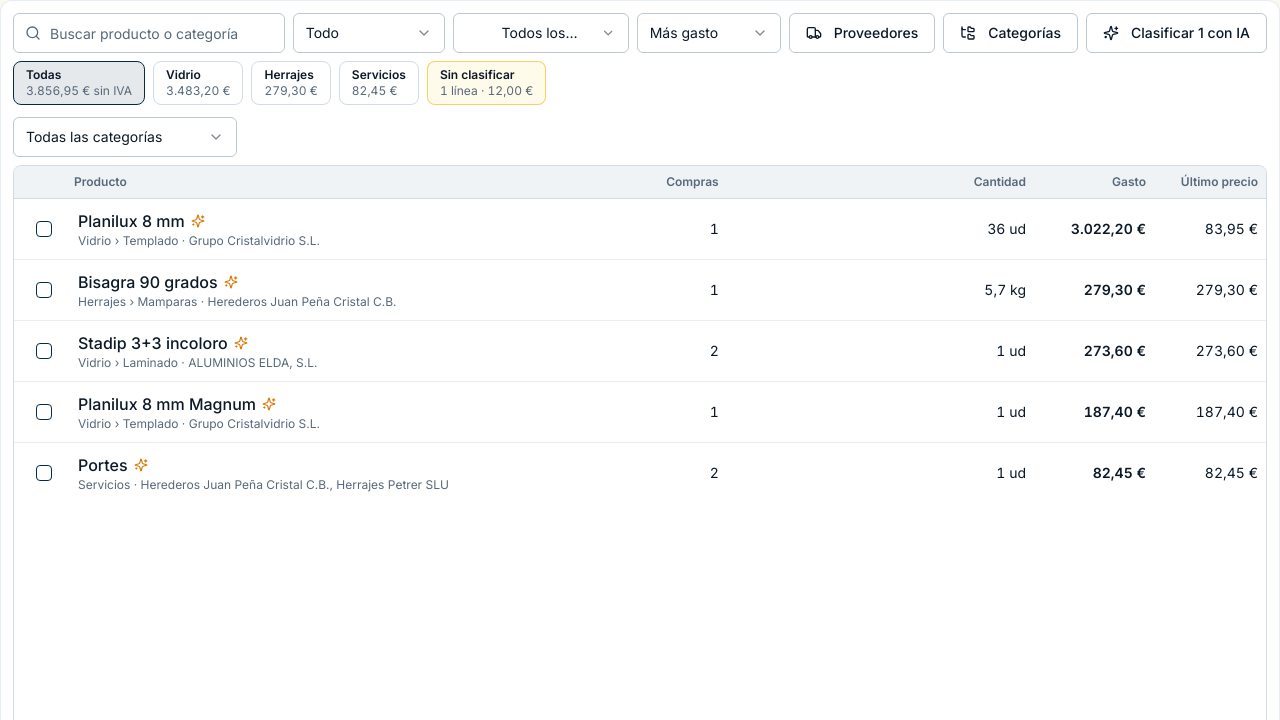
Test case: Proveedores unificados en Productos › fusionar: sugiere quedarse con el que tiene CIF y llama a proveedores_fusionar
Later steps or results of the test are not shown.
Check: the text "Planilux 8 mm" is shown, box [78, 209, 185, 233]
Click the button "Proveedores" at (862, 33), box [789, 13, 935, 53]
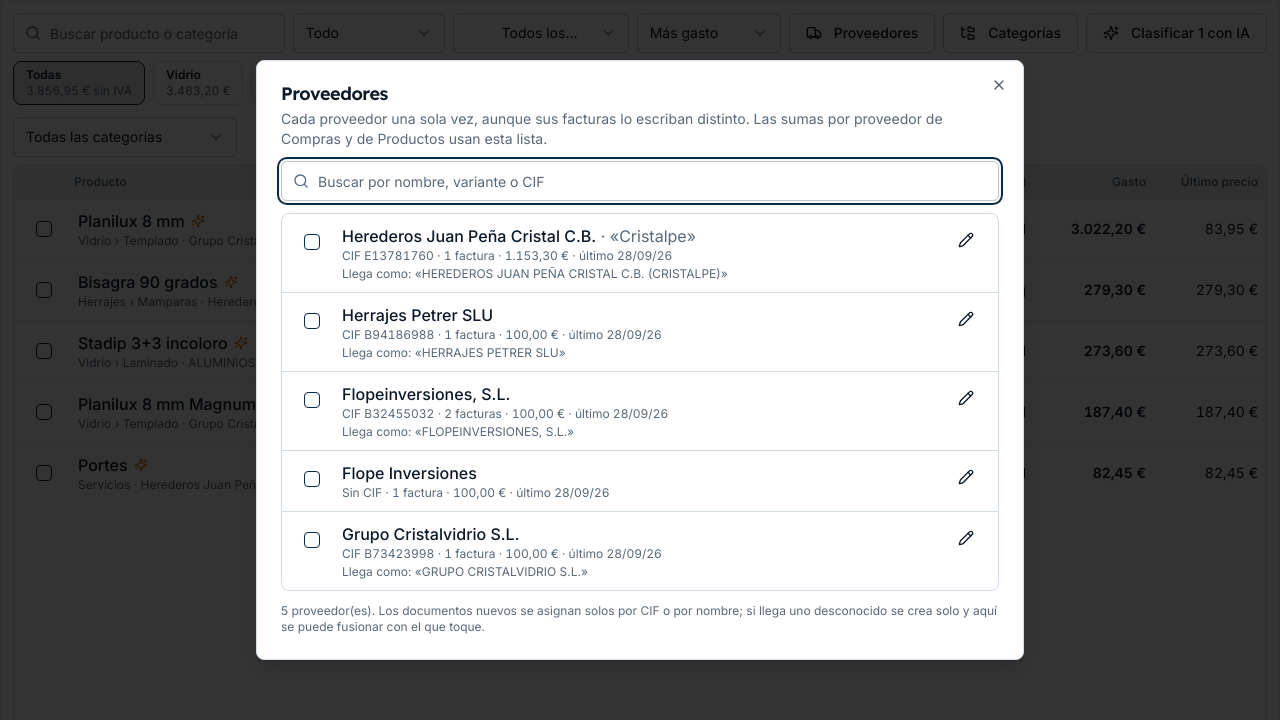
Check: the list with test id "lista-proveedores" is shown, box [281, 213, 999, 591]
Click the checkbox named "Seleccionar Flope Inversiones" at (312, 479), box [304, 471, 320, 487]
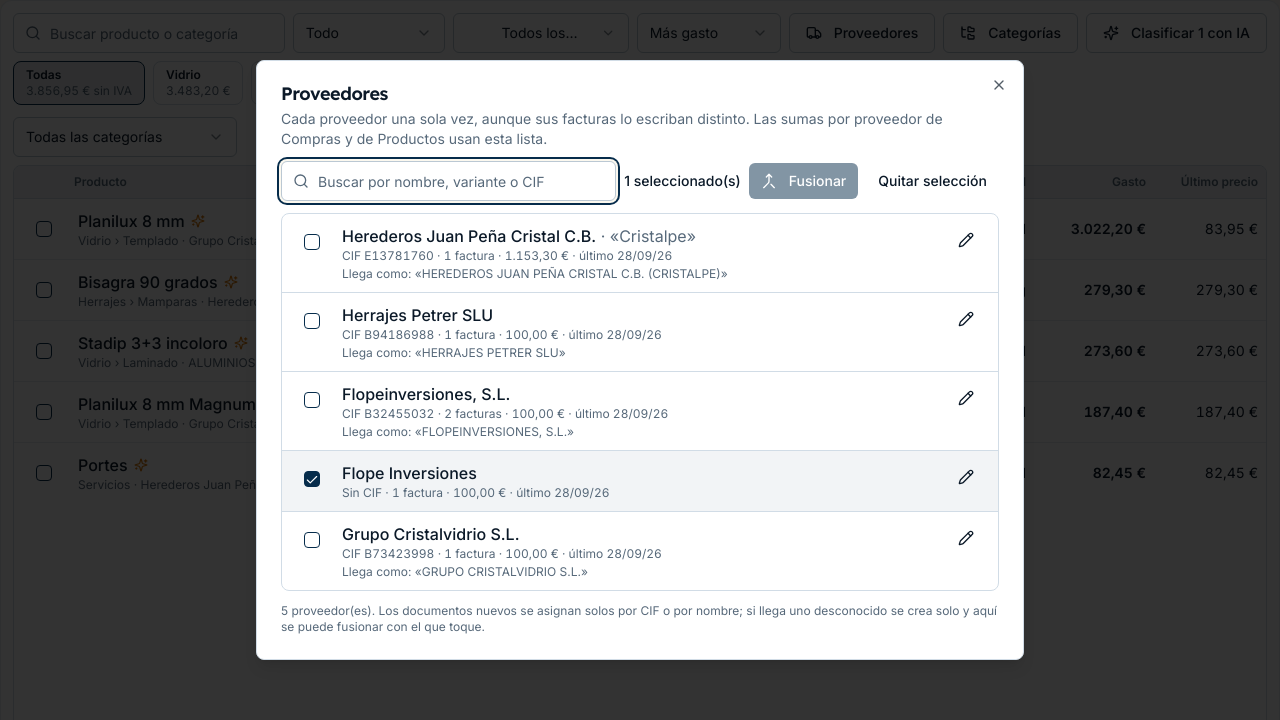
Click the checkbox named "Seleccionar Flopeinversiones, S.L." at (312, 400), box [304, 392, 320, 408]
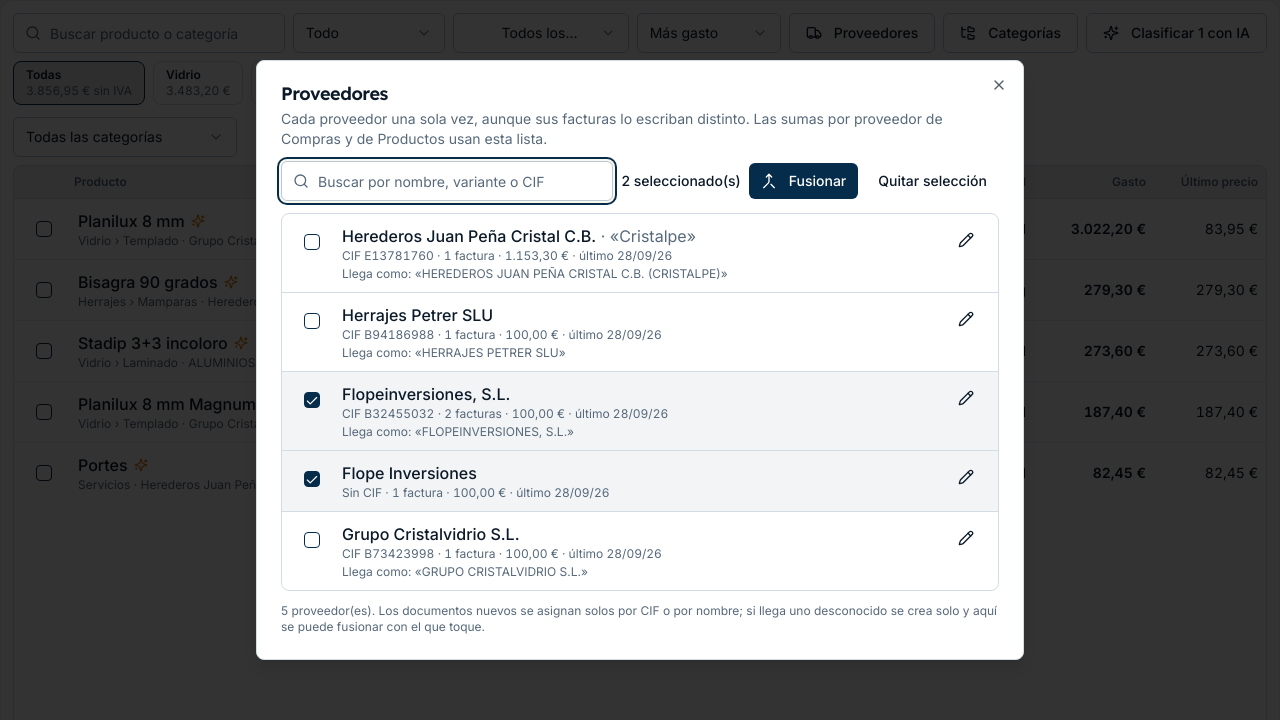
Click the button "Fusionar" at (804, 181), box [749, 163, 858, 199]
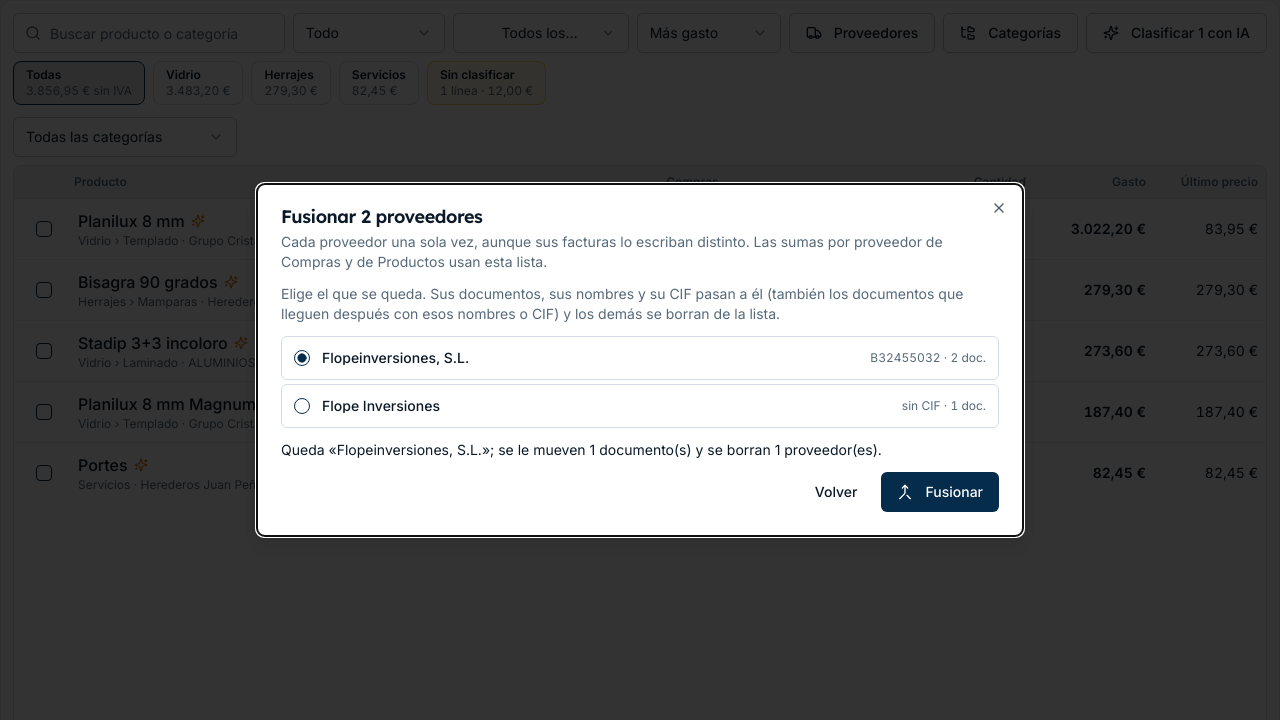
Check: the text "Queda «Flopeinversiones, S.L.»" is shown, box [281, 441, 882, 458]
